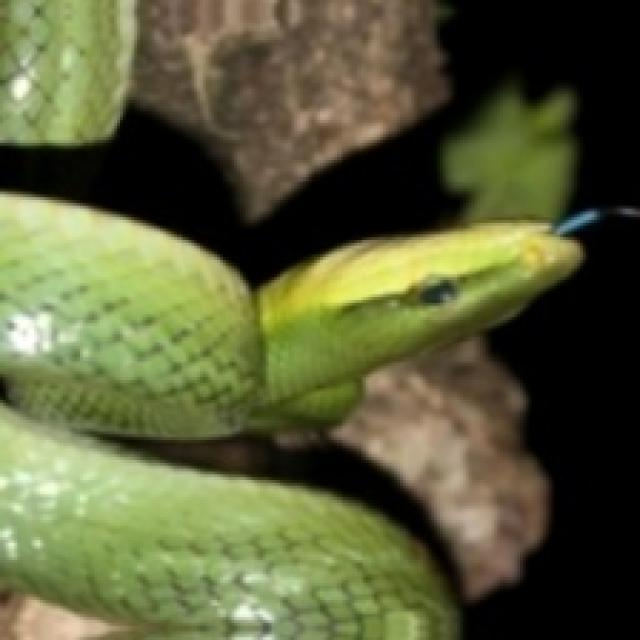red-tailed green ratsnake: (1, 195, 581, 438), (0, 407, 458, 640), (0, 0, 133, 144)
